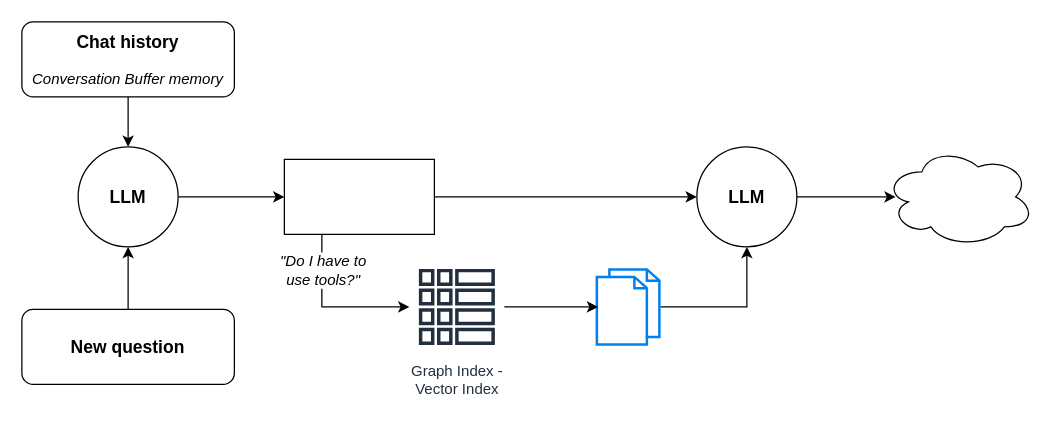
Some shapes in this 1056 by 421 pixel diagram are drawn without their labels. The shapes that lost their labels are listed below. From the top down, each one's centre as x and y in pixels, then its label:
[358,196]: Standalone Question
[958,196]: Answer
